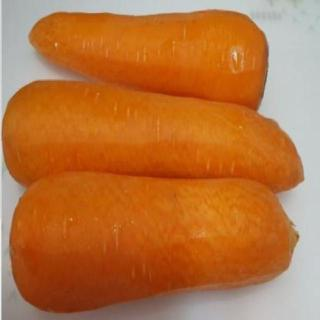carrot: (8, 168, 300, 318), (0, 75, 306, 198), (26, 4, 270, 114)
